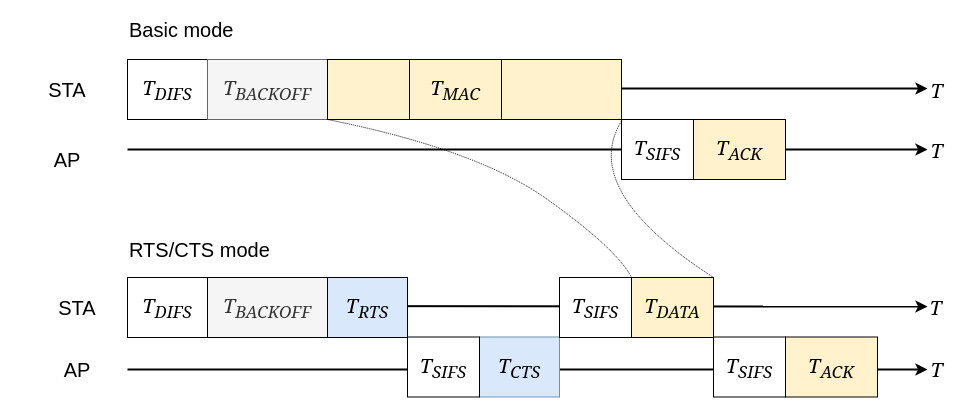
This 959x414 diagram has some shape labels left out. The box of each missing label's shape, as (x1, y1, x2, y2) in pixels:
T FRAME: (500, 58, 622, 120)
T PHY: (326, 58, 410, 120)
